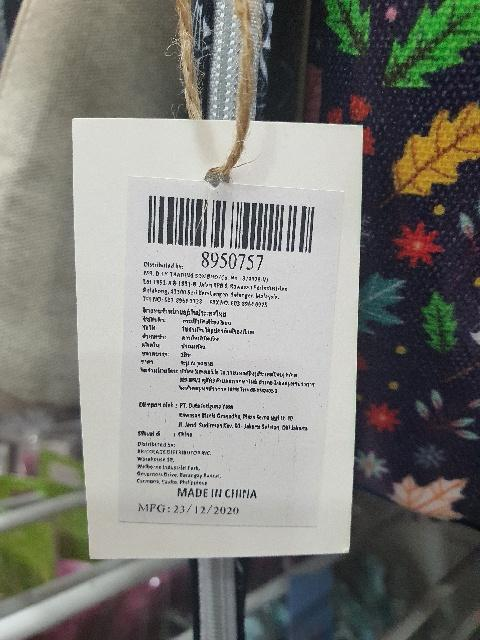Barcode: (136, 190, 326, 271)
